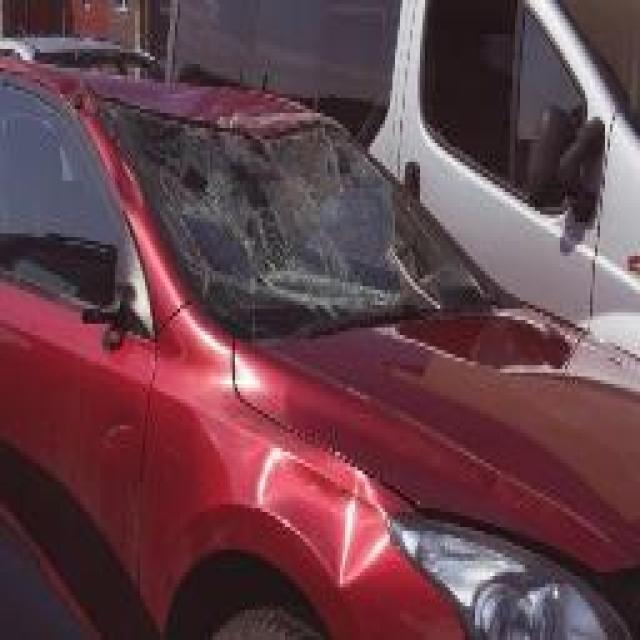Fender: (228, 437, 388, 580)
Windshield: (122, 105, 488, 324)
